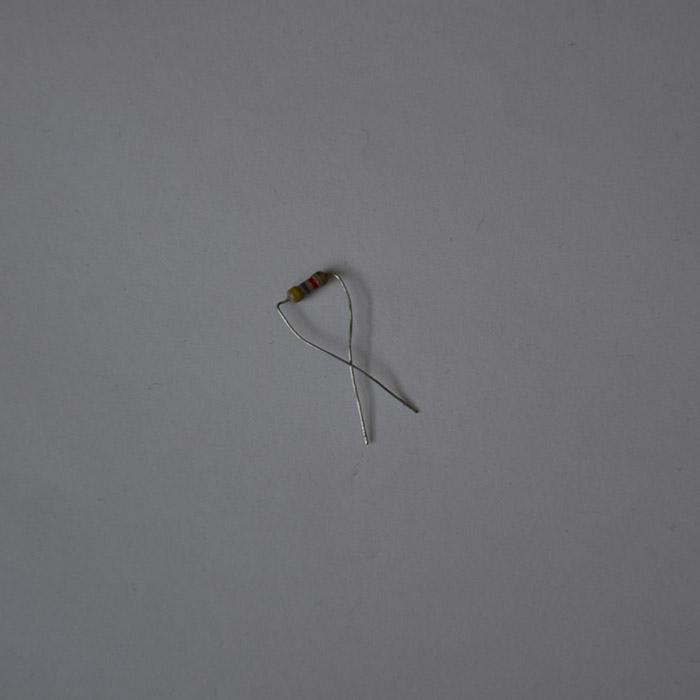resistor: (285, 270, 329, 304)
